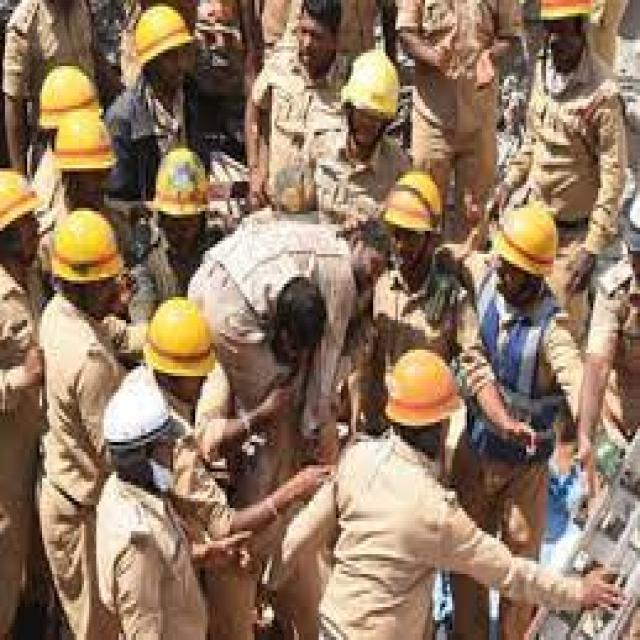reflective_jacket: (469, 290, 583, 465)
safety_helmet: (486, 188, 566, 283), (380, 343, 462, 435), (141, 290, 220, 382), (47, 204, 123, 290), (98, 363, 170, 452), (338, 46, 405, 122), (150, 142, 212, 220), (49, 108, 118, 175), (380, 171, 444, 237), (131, 3, 193, 69), (39, 62, 103, 125), (0, 165, 42, 241), (531, 0, 602, 29)
